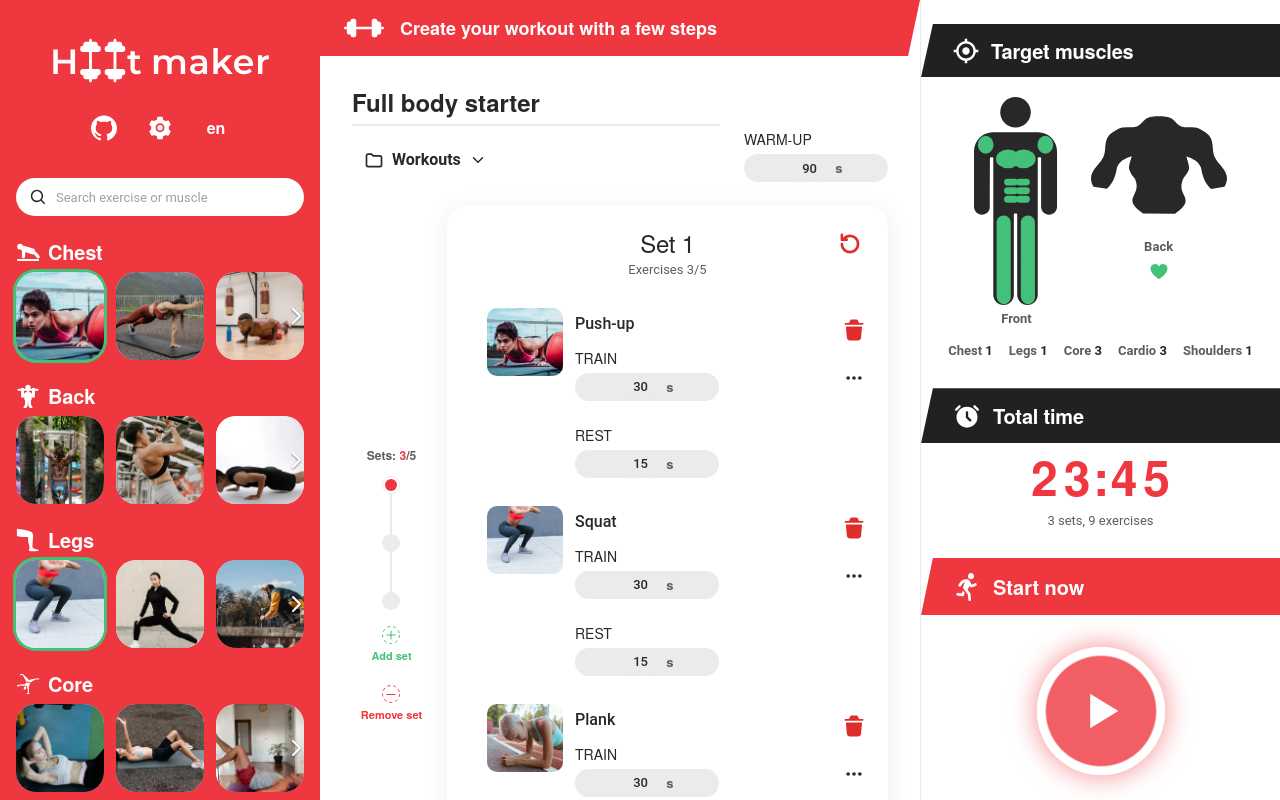
Test: HIIT builder › filters the catalog by name and group without moving other groups
This screenshot has width=1280, height=800.
Type "cardio" into the search field labelled "Search exercise or muscle" at coordinates (160, 197), box [16, 178, 304, 216]
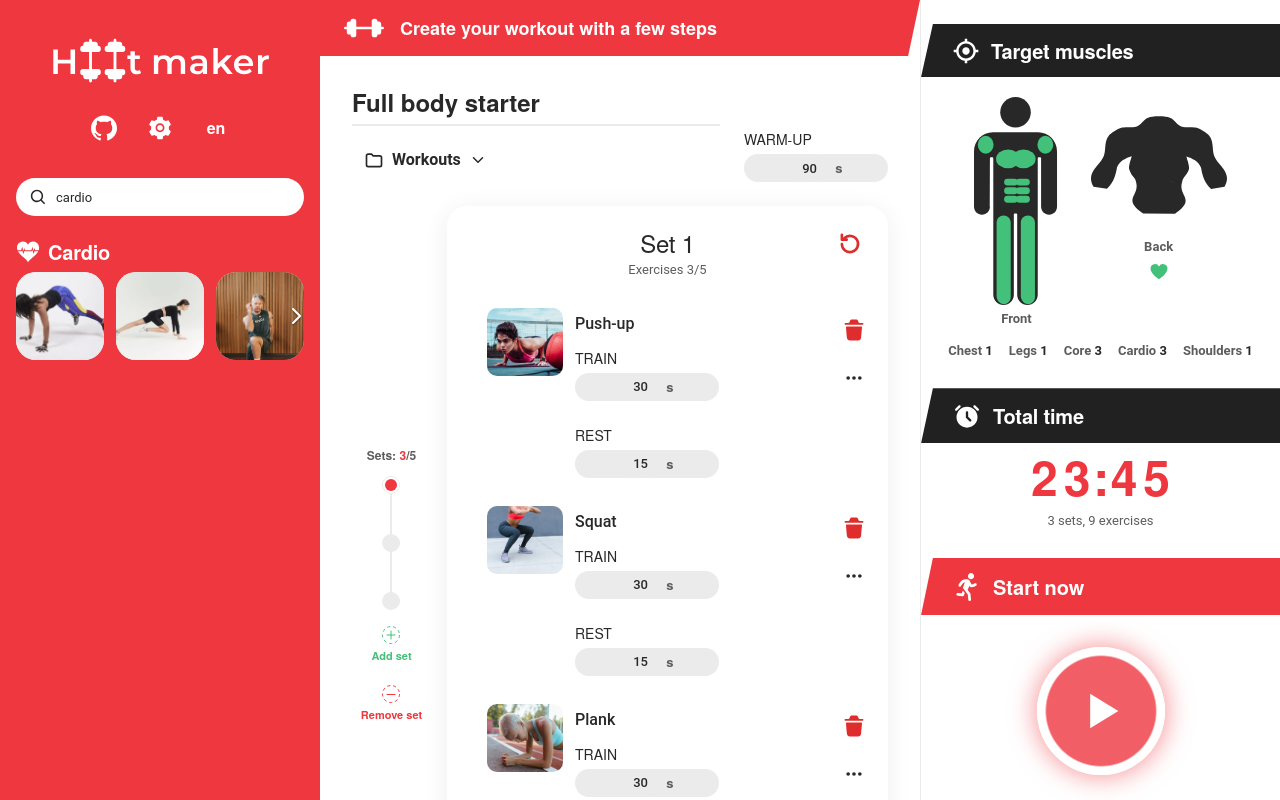
Expected: the 1st button named "Burpee" is shown, [16, 272, 104, 360]
Replace the text in the search field named "Search exercise or muscle" with "zzz" at coordinates (160, 197), box [16, 178, 304, 216]
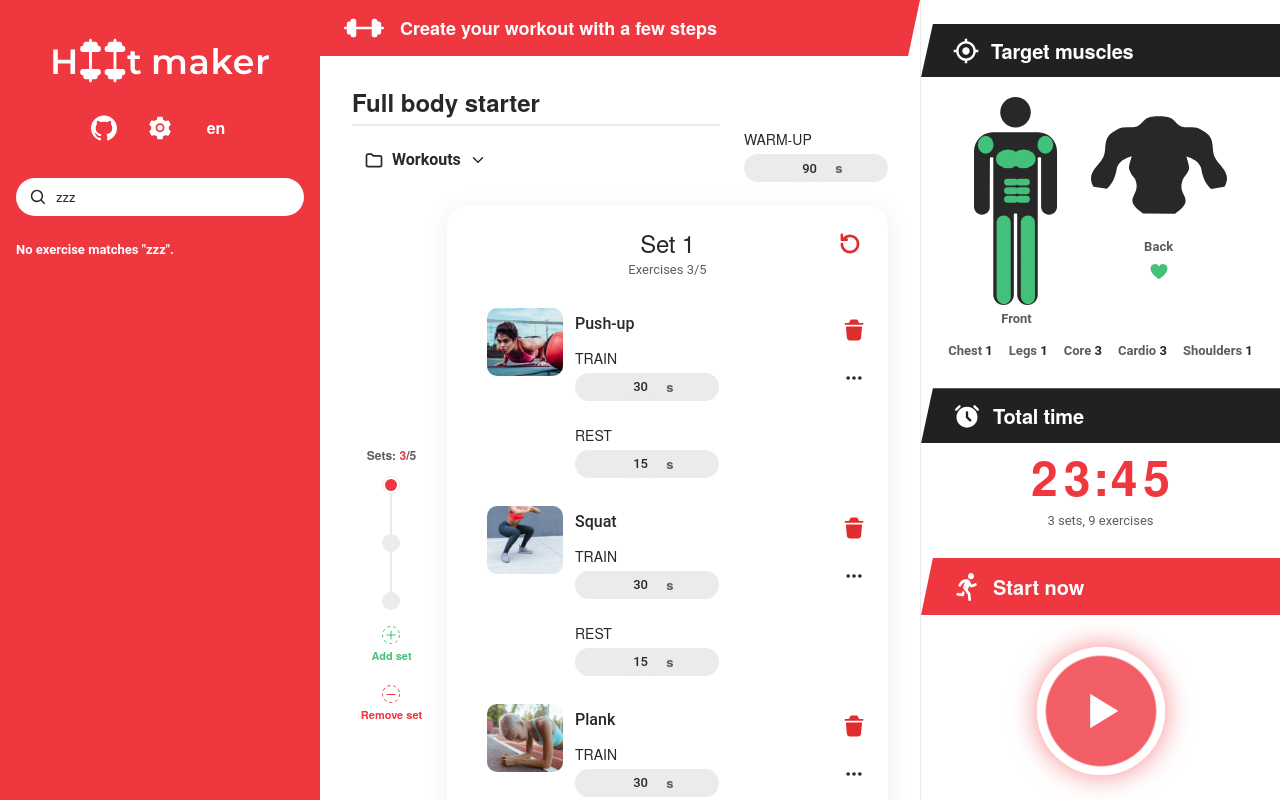
Result: the text "No exercise matches \"zzz\"." is shown at [16, 242, 174, 257]
